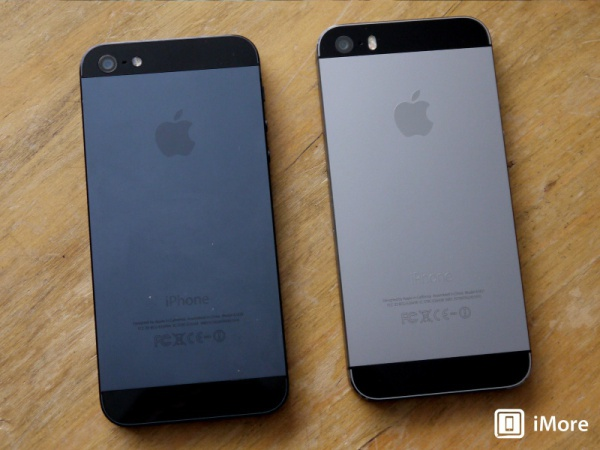apple: (374, 84, 457, 141), (146, 101, 217, 166)
